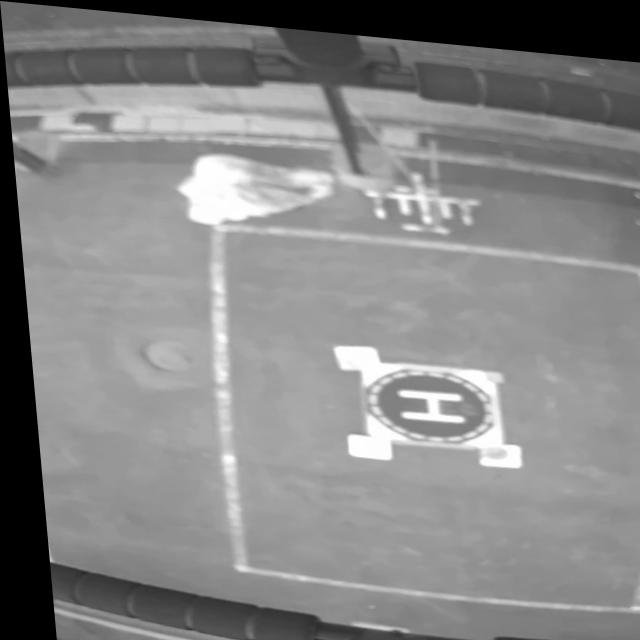Helipad: (392, 380, 463, 416)
